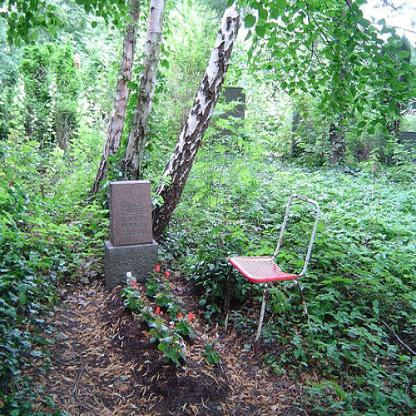chair: (223, 191, 319, 345)
